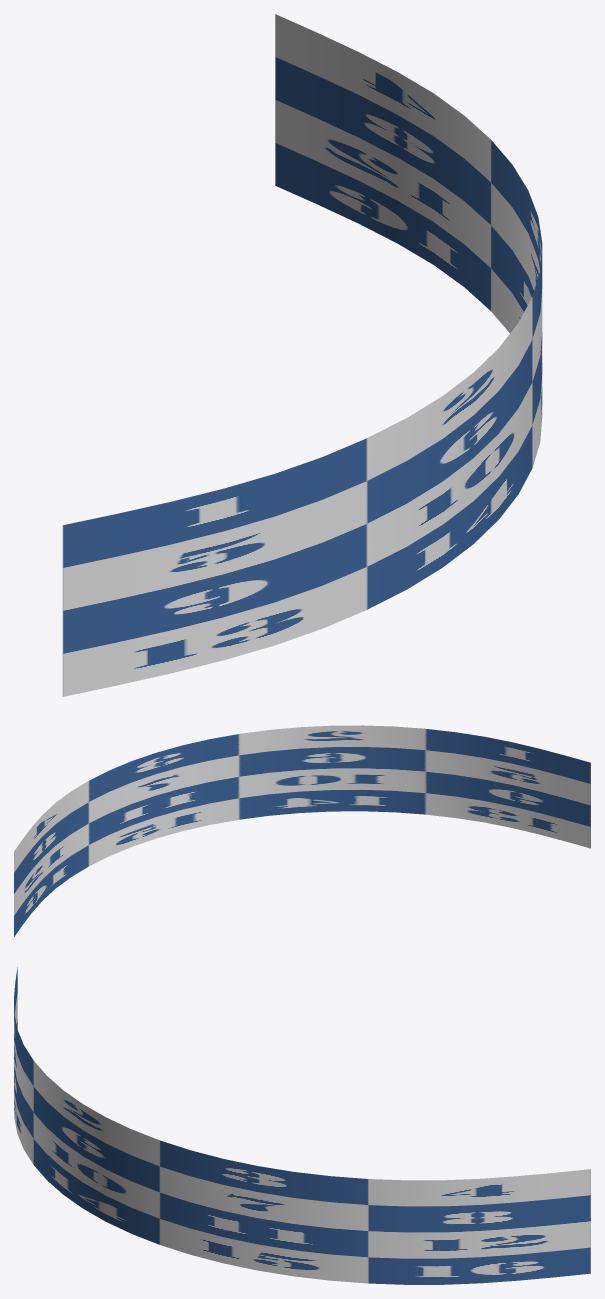
Rendered from Slash13.fbx.
3 renders of one model, top to bottom at view 1: azimuth 30°, elevation 25°; view 2: azimuth 150°, elevation 25°; view 3: azimuth 270°, elevation 25°, orthographic. The views are drawn at different scales.
Visible parts, largest first — view 1: SM_e_DLC_Plc_P0004_C20_AtkSkl02_Slash004; view 2: SM_e_DLC_Plc_P0004_C20_AtkSkl02_Slash004; view 3: SM_e_DLC_Plc_P0004_C20_AtkSkl02_Slash004.
Part boxes in pixels (box(x1,y1,x2,y2)): SM_e_DLC_Plc_P0004_C20_AtkSkl02_Slash004: box(62, 14, 542, 696); SM_e_DLC_Plc_P0004_C20_AtkSkl02_Slash004: box(14, 725, 590, 936); SM_e_DLC_Plc_P0004_C20_AtkSkl02_Slash004: box(14, 967, 590, 1284).
Size of the model in its own units: 675 by 154 by 768.
